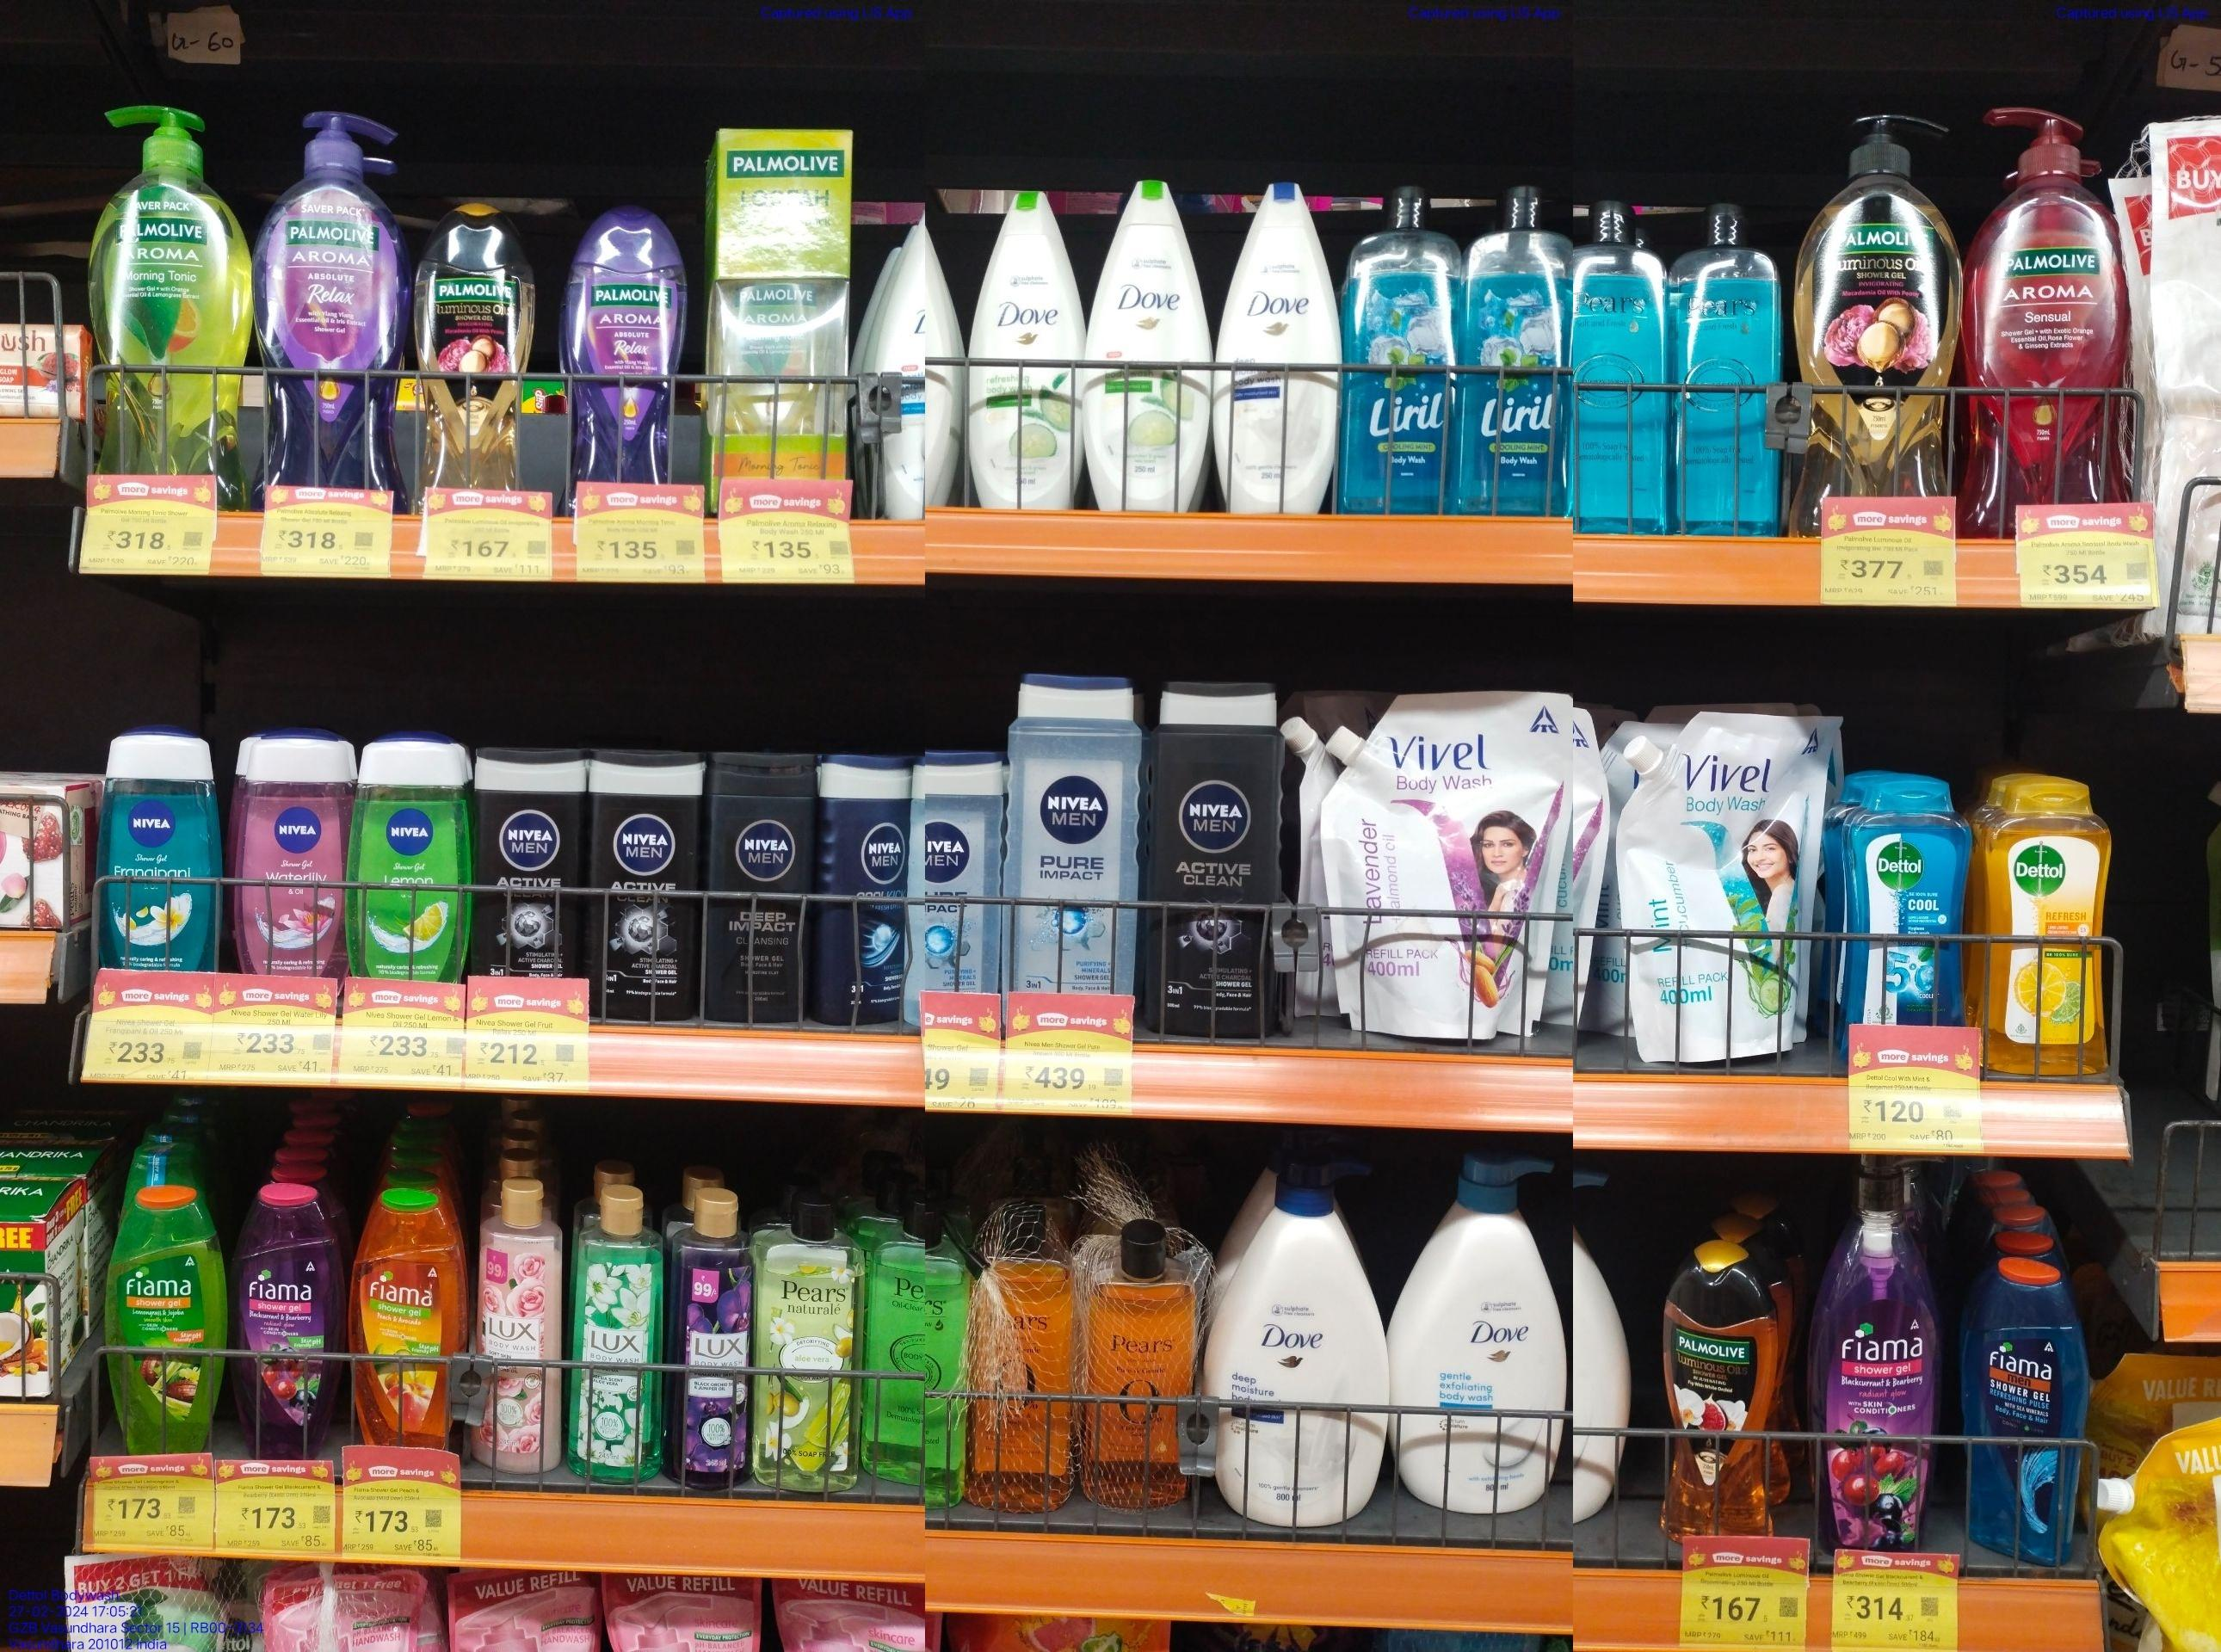Dettol_Bodywash_Cool: (1857, 781, 1964, 1041)
Dettol_Bodywash_Refresh: (1994, 783, 2113, 1081)
Dove_Deep_Moisture_Body_Wash_250ML: (1228, 180, 1336, 519)
Dove_Refreshing_Body_Wash_250ML: (1093, 177, 1218, 512), (975, 193, 1083, 519)
Fiama_Shower_Gel_Lemongrass_and_Jojoba_250ML: (104, 1189, 227, 1465)
Fiama_Shower_Gel_Peach_and_Avocado_250ML: (352, 1194, 460, 1468)
Liril_Cooling_Mint_Body_Wash_250ML: (1343, 189, 1451, 524), (1459, 180, 1562, 522)
Lux_Black_Orchid_Scent_and_Juniper_Oil_Body_Wash_245ML: (672, 1189, 755, 1489)
Lux_Body_Wash_Skin_Detox_Freesia_Scent_and_Alove_Vera_245ML: (576, 1199, 666, 1484)
Nivea_Shower_Gel_Frangipani_and_Oil_250ML: (102, 731, 217, 977)
Nivea_Shower_Gel_Lemon_and_Oil_250ML: (359, 741, 468, 980)
Nivea_Shower_Gel_Waterlily_and_Oil_250ML: (234, 732, 352, 980)
Palmolive_Aroma_Relax_250ML: (569, 210, 689, 495)
Palmolive_Luminous_Oils_Invigorating_Macadamia_Oil_With_Peony_250ML: (406, 205, 536, 512)
Palmolive_Luminous_Oils_With_White_Orchid_Shower_Gel_250ML: (1652, 1251, 1775, 1551)
Pears_Naturale_Aloe_Vera_Body_Wash_250ML: (762, 1194, 864, 1499)
Pears_Pure_Glycerin_and_Lemon_Flower_Extracts_Body_Wash_250ML: (873, 1211, 970, 1501)
Pears_Pure_Glycerin_and_Mint_Extracts_Body_Wash_250ML: (1674, 212, 1785, 536), (1586, 200, 1674, 540)
